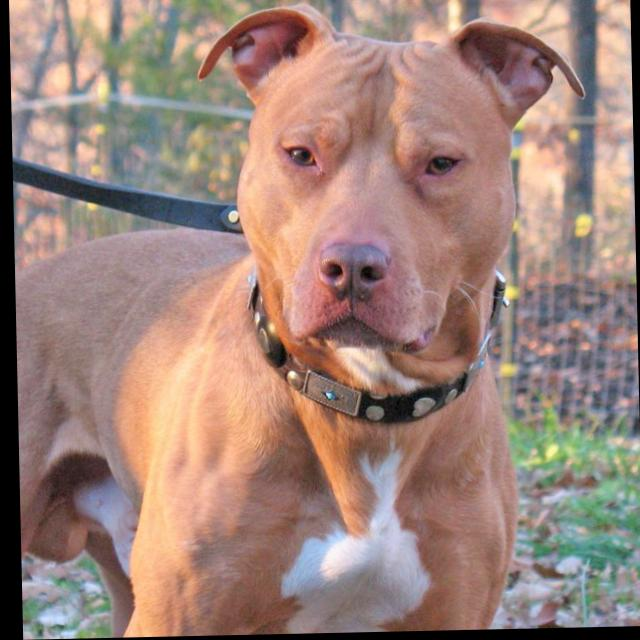am_pit_bull_terrier: (10, 1, 597, 640)
